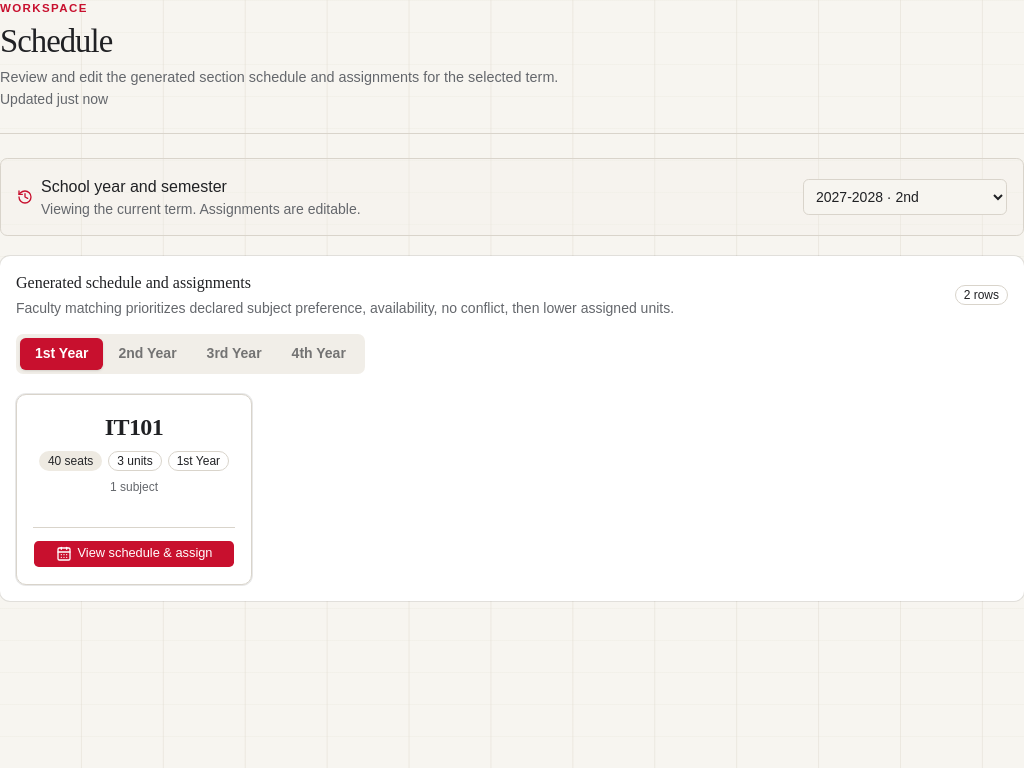
it: ScheduleWorkspace › lets the Program Chair switch to an archived term and view its schedule read-only
Expected: the element named "IT101 section" is shown, [16, 394, 252, 585]
Expected: the text "Viewing the current term. Assignments are editable." is shown, [41, 199, 361, 219]
Step 1. Select "2024-2025 · 1st (Archived)" in the dropdown named "Academic term" → [905, 197], box [803, 179, 1007, 215]
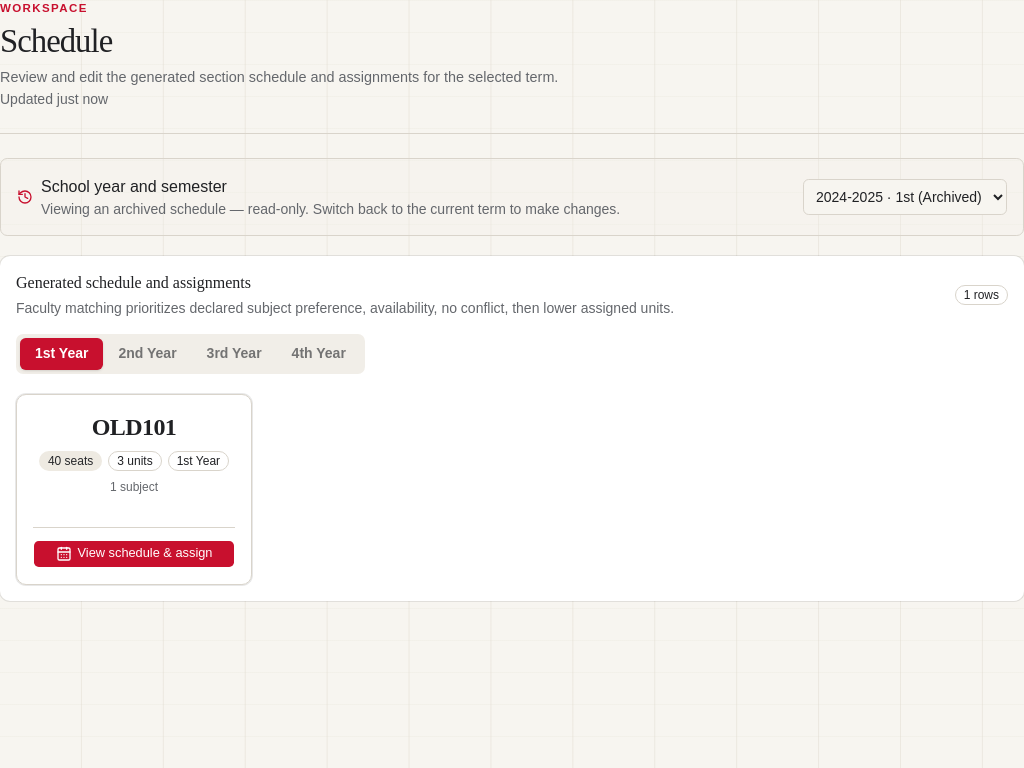
Expected: the text "Viewing an archived schedule" is shown, [41, 201, 620, 217]
Step 2. Click the button "View schedule & assign" → [134, 554], box [33, 540, 235, 568]
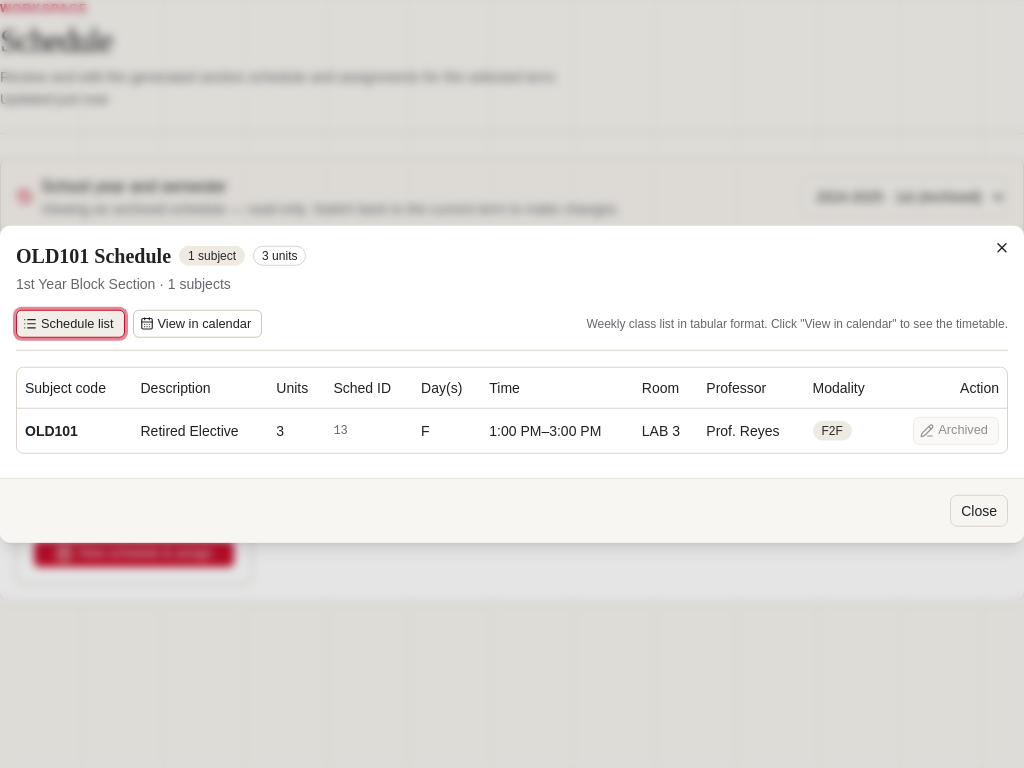
Expected: the button "Archived" is disabled, [913, 416, 999, 444]
